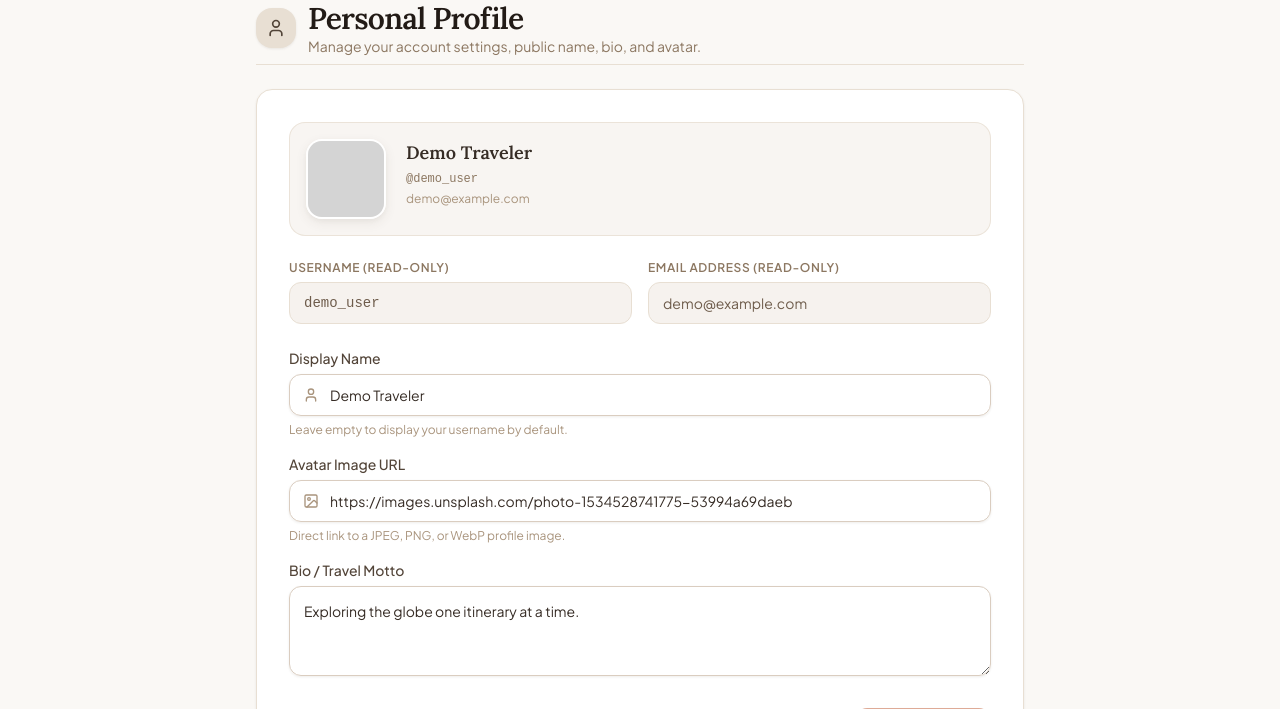
Authentication & Profile Flows › allows authenticated user to update their profile
Expected: the heading "Personal Profile" is shown, [308,0,524,37]
Replace the text in the field labelled "Display Name" with "Captain Explorer": (640, 395) [289,374,991,416]
(page scrolled)
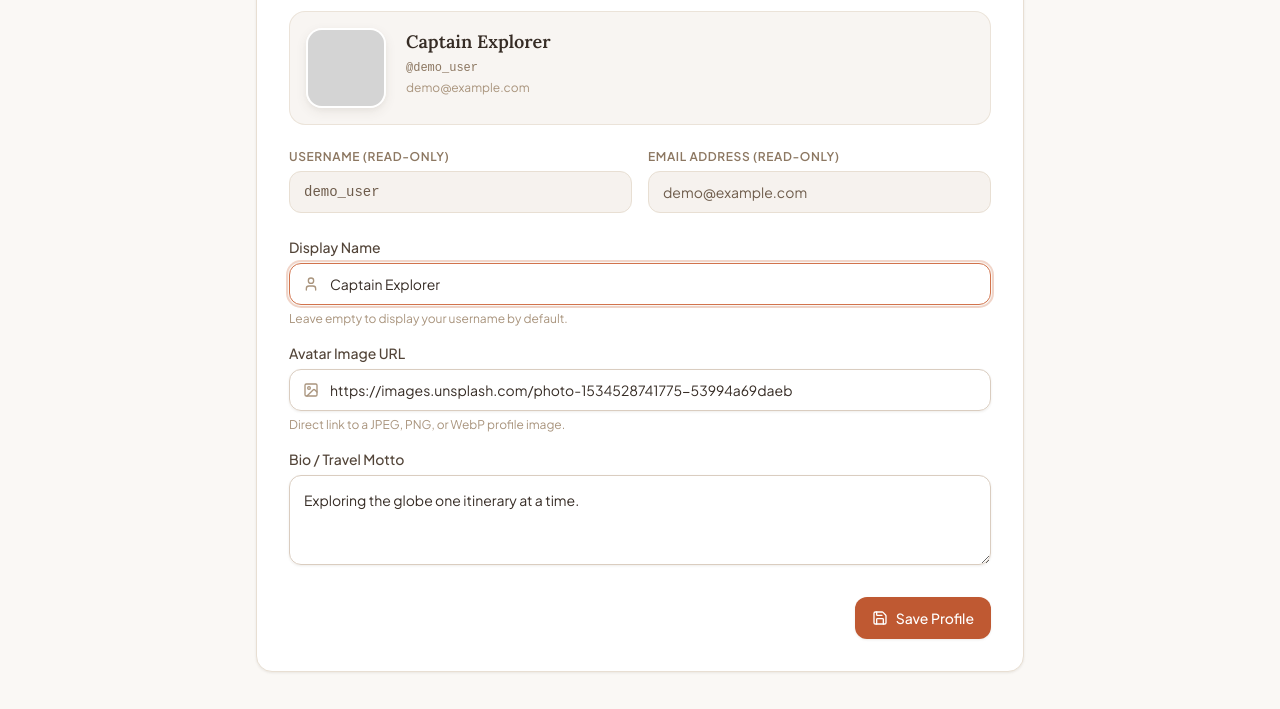
Click the button "Save Profile": click(923, 618) [855,597,991,639]
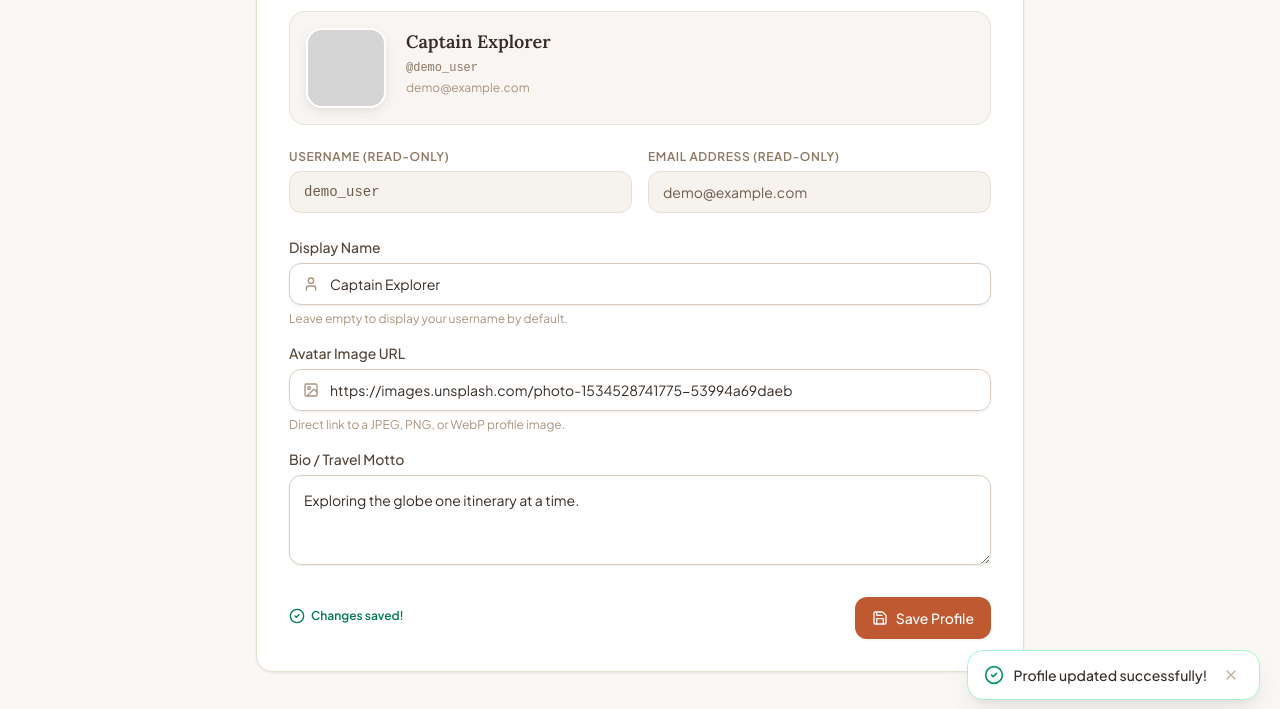
Expected: the text "Changes saved!" is shown, [289,608,404,624]
